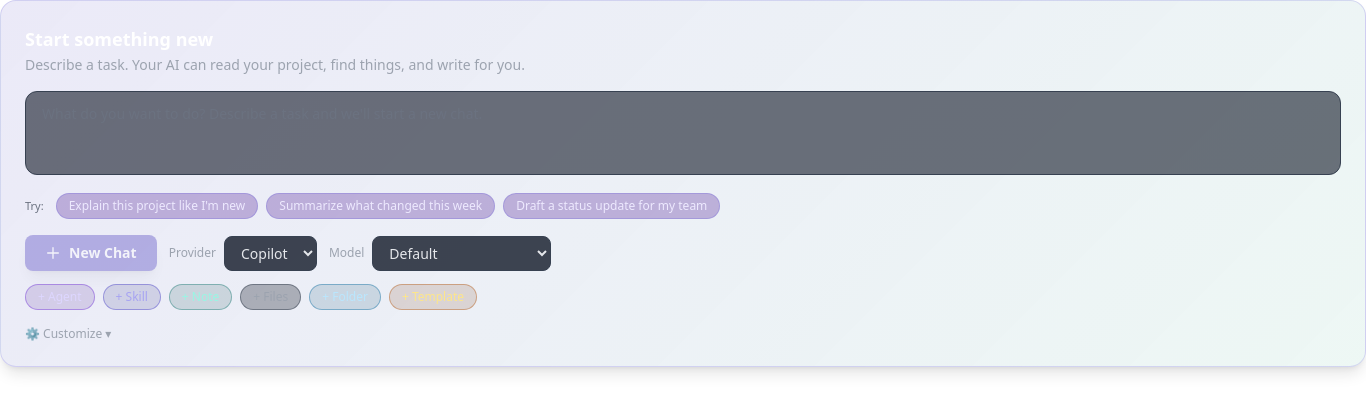
QuickStartCard › enables the submit button when the prompt is non-empty
Replace the text in the text box with test id "quick-start-textarea" with "Refactor the auth module" at {"x": 683, "y": 133}, box [25,91,1341,175]
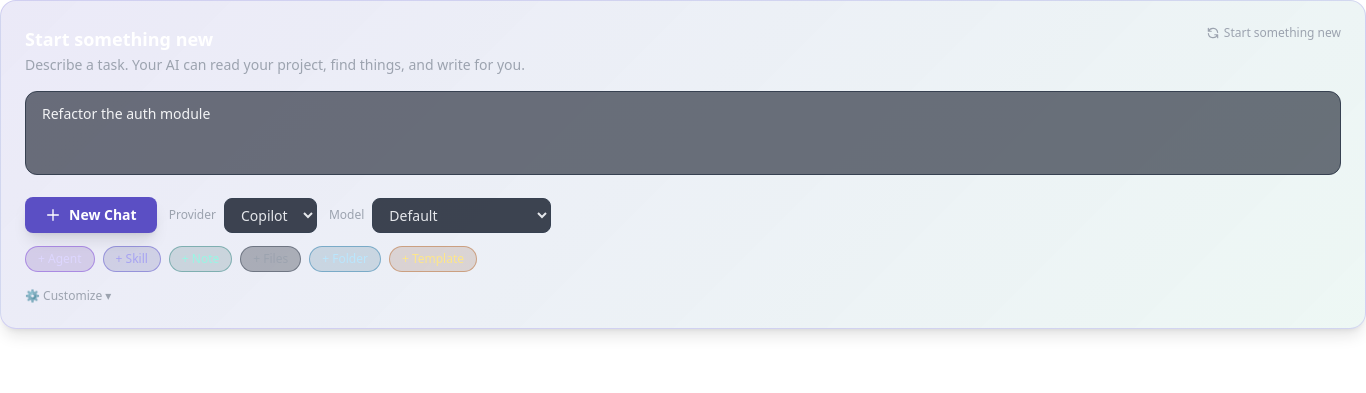
expect the button with test id "quick-start-submit" is enabled: met, box [25,197,157,233]
